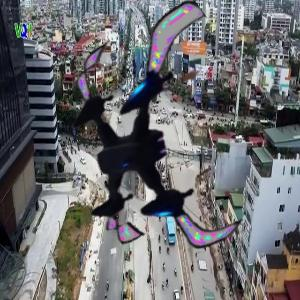drone: (36, 29, 276, 269)
